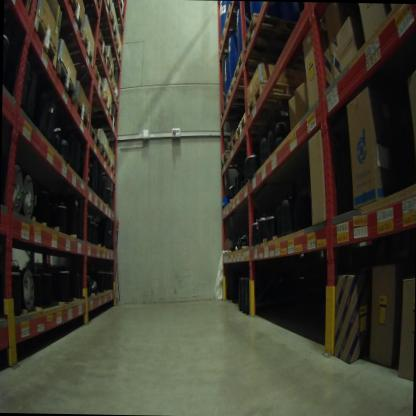pallet: (245, 11, 308, 58), (247, 76, 311, 121), (231, 51, 284, 100), (26, 12, 59, 72), (234, 114, 296, 145), (48, 98, 89, 135), (58, 29, 95, 68), (224, 76, 258, 115), (70, 65, 105, 97), (75, 29, 109, 60), (219, 149, 265, 171), (55, 60, 77, 101), (59, 0, 84, 36), (227, 130, 262, 154), (91, 14, 119, 42), (83, 94, 115, 117), (8, 0, 40, 22), (219, 103, 254, 123), (224, 4, 247, 31), (83, 114, 117, 132), (96, 39, 122, 62), (217, 26, 236, 55), (98, 56, 113, 84), (89, 123, 102, 153), (97, 140, 109, 170), (91, 0, 115, 14), (112, 0, 126, 21), (110, 82, 121, 104), (85, 0, 104, 12), (107, 158, 117, 180)
